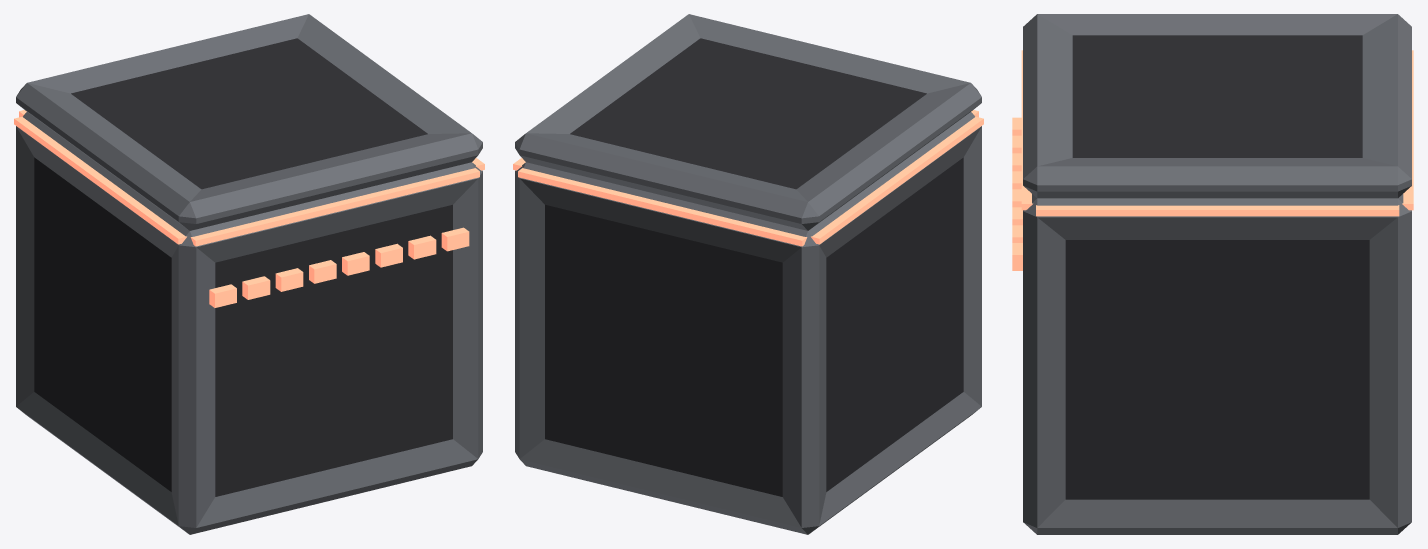
File: AddonPack.fbx
3 renders of one model, left to right at view 1: azimuth 30°, elevation 25°; view 2: azimuth 150°, elevation 25°; view 3: azimuth 270°, elevation 25°, orthographic. The views are drawn at different scales.
Visible parts, largest first — view 1: Base, Lid, Seam, Lamp8, Lamp3, Lamp7, Lamp2; view 2: Base, Lid, Seam; view 3: Base, Lid, Seam.
Boxes of the visible parts, x1,y1,x2,y2 form: Base: [16, 112, 482, 534]; Lid: [16, 14, 482, 230]; Seam: [14, 110, 484, 246]; Lamp8: [441, 227, 469, 251]; Lamp3: [275, 268, 303, 291]; Lamp7: [408, 235, 436, 259]; Lamp2: [242, 276, 270, 299]; Base: [515, 112, 981, 534]; Lid: [515, 14, 981, 230]; Seam: [513, 110, 983, 246]; Base: [1023, 194, 1411, 534]; Lid: [1023, 14, 1411, 198]; Seam: [1021, 50, 1413, 216].
Bounding box in the file's own units: 1.11 × 1.15 × 1.13.
